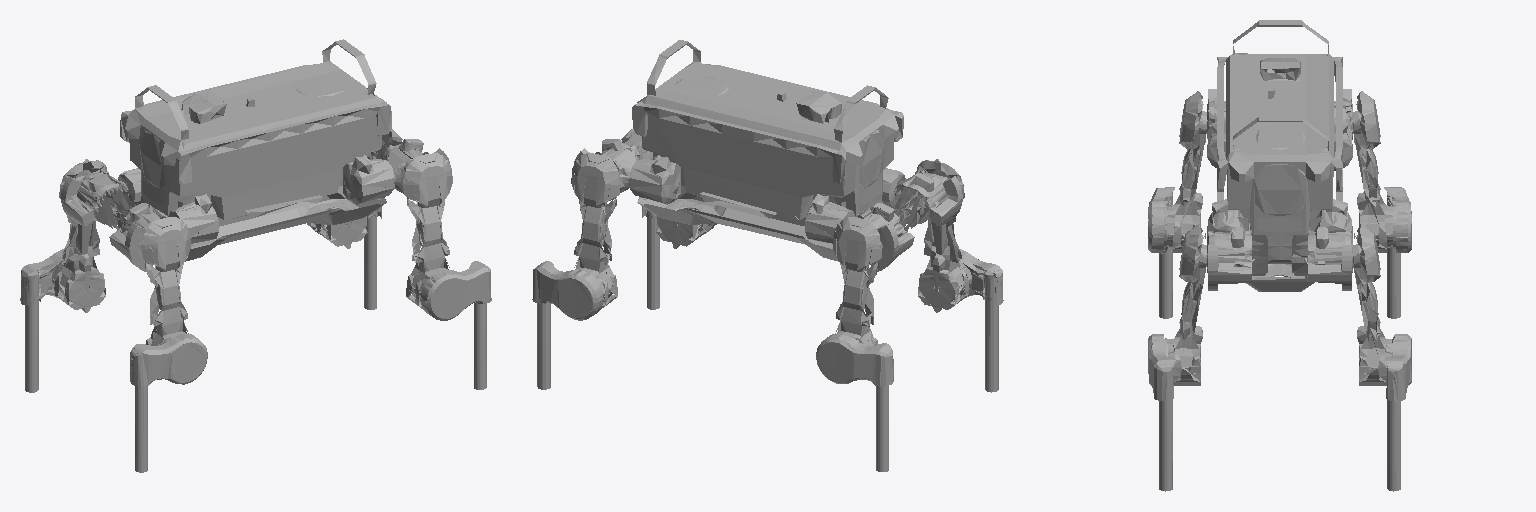
URDF robot description (anymal):
<?xml version="1.0" ?>
<robot name="anymal" xmlns:xacro="http://www.ros.org/wiki/xacro">

    <!--
      Material colors
    -->

    <!-- Basic colors -->
    <material name="black">
        <color rgba="0.0 0.0 0.0 1.0"/>
    </material>
    <material name="blue">
        <color rgba="0.0 0.0 0.8 1.0"/>
    </material>
    <material name="green">
        <color rgba="0.0 0.8 0.0 1.0"/>
    </material>
    <material name="grey">
        <color rgba="0.2 0.2 0.2 1.0"/>
    </material>
    <material name="light_grey">
        <color rgba="0.4 0.4 0.4 1.0"/>
    </material>
    <material name="red">
        <color rgba="0.8 0.0 0.0 1.0"/>
    </material>
    <material name="white">
        <color rgba="1.0 1.0 1.0 1.0"/>
    </material>

    <!-- Material for the visual primitives -->
    <material name="anymal_material">
        <color rgba="0.7 0.7 0.7 1.0"/>
    </material>

    <!--
      Base
    -->

    <!-- Base link -->
    <link name="base">
        <visual>
            <origin rpy="0 0 0" xyz="0 0 0"/>
            <geometry>
                <mesh filename="../meshes/anymal_base.dae" scale="0.001 0.001 0.001"/>
            </geometry>
            <material name="anymal_material"/>
        </visual>
        <!-- Main Body -->
        <collision>
            <origin rpy="0 0 0" xyz="0 0 0.08"/>
            <geometry>
                <box size="0.531 0.27 0.24"/>
            </geometry>
        </collision>
    </link>
    <!-- Fixed joint to add dummy inertia link -->
    <joint name="ignore_base_to_base_inertia" type="fixed">
        <parent link="base"/>
        <child link="base_inertia"/>
        <origin rpy="0 0 0" xyz="0 0 0"/>
    </joint>
    <!-- Dummy inertia link, because KDL cannot have inertia on the base link -->
    <link name="base_inertia">
        <inertial>
            <origin rpy="0 0 0" xyz="-0.001960558279 -0.001413217745 0.050207125344"/>
            <mass value="16.793507758"/>
            <inertia ixx="0.217391101503" ixy="-0.00132873239126" ixz="-0.00228200226173" iyy="0.639432546734" iyz="-0.00138078263145" izz="0.62414077654"/>
        </inertial>
    </link>

    <!--
      Left-Fore leg
    -->

    <!-- high link -->
    <link name="LF_HIP">
        <visual>
            <origin rpy="0 0 0.0" xyz="0 0 0"/>
            <geometry>
                <mesh filename="../meshes/anymal_hip_l.dae" scale="0.001 0.001 0.001"/>
            </geometry>
            <material name="anymal_material"/>
        </visual>
        <inertial>
            <origin rpy="0 0 0" xyz="0.064516258147 -0.003787101702 -0.000152184388"/>
            <mass value="1.42462064"/>
            <inertia ixx="0.00243023349564" ixy="-1.53023971e-05" ixz="-2.1819095354e-05" iyy="0.00230257239103" iyz="2.6473021273e-05" izz="0.0019806759227"/>
        </inertial>
    </link>
    <!-- Hip joint -->
    <joint name="LF_HAA" type="revolute">
        <parent link="base"/>
        <child link="LF_HIP"/>
        <origin xyz="0.277 0.116 0.0"/>
        <axis xyz="1 0 0"/>
        <limit effort="80" lower="-6.28" upper="6.28" velocity="15"/>
        <dynamics damping="0.0" friction="0.0"/>
    </joint>

    <!-- Thigh link -->
    <link name="LF_THIGH">
        <visual>
            <origin rpy="0 0 0.0" xyz="0 0 0"/>
            <geometry>
                <mesh filename="../meshes/anymal_thigh_l.dae" scale="0.001 0.001 0.001"/>
            </geometry>
            <material name="anymal_material"/>
        </visual>
        <collision>
            <!-- KFE actuator -->
            <origin rpy="1.57079632679 0 0" xyz="0.0 0.07205 -0.25"/>
            <geometry>
                <cylinder length="0.11" radius="0.06"/>
            </geometry>
        </collision>
        <inertial>
            <origin rpy="0 0 0" xyz="-0.003897968082 0.054226618537 -0.214583373795"/>
            <mass value="1.634976467"/>
            <inertia ixx="0.0120367944369" ixy="6.762065206e-05" ixz="0.000287806340448" iyy="0.0120643637939" iyz="-0.00140610131218" izz="0.00249422574881"/>
        </inertial>
    </link>
    <!-- Thigh joint -->
    <joint name="LF_HFE" type="revolute">
        <parent link="LF_HIP"/>
        <child link="LF_THIGH"/>
        <origin xyz="0.0635                    0.041                    0.0"/>
        <axis xyz="0 1 0"/>
        <limit effort="80" lower="-6.28" upper="6.28" velocity="15"/>
        <dynamics damping="0.0" friction="0.0"/>
    </joint>

    <!-- Shank link -->
    <link name="LF_SHANK">
        <visual>
            <origin rpy="0 0 0.0" xyz="0 0 0"/>
            <geometry>
                <mesh filename="../meshes/anymal_shank_l.dae" scale="0.001 0.001 0.001"/>
            </geometry>
            <material name="anymal_material"/>
        </visual>
        <inertial>
            <origin rpy="0 0 0" xyz="0.030816858139 -0.004617229294 0.000893125713"/>
            <mass value="0.207204302"/>
            <inertia ixx="0.0002104880248" ixy="-5.6750980345e-05" ixz="1.0127699391e-05" iyy="0.000676270210023" iyz="-8.22869024e-07" izz="0.000545032674924"/>
        </inertial>
    </link>
    <!-- Shank joint -->
    <joint name="LF_KFE" type="revolute">
        <parent link="LF_THIGH"/>
        <child link="LF_SHANK"/>
        <origin xyz="0.0 0.109 -0.25"/>
        <axis xyz="0 1 0"/>
        <limit effort="80" lower="-6.28" upper="6.28" velocity="15"/>
        <dynamics damping="0.0" friction="0.0"/>
    </joint>
    <!-- Shank to Adapter joint -->
    <joint name="ignore_LF_SHANK_TO_ADAPTER" type="fixed">
        <parent link="LF_SHANK"/>
        <child link="LF_ADAPTER"/>
        <origin rpy="0.0 0.0 0.0" xyz="0.1 -0.02 0.0"/>
    </joint>

    <!-- Adapter link -->
    <link name="LF_ADAPTER">
        <visual>
            <origin rpy="0 0 0.0" xyz="0 0 0.032"/>
            <geometry>
                      <mesh filename="../meshes/anymal_foot.dae" scale="0.001 0.001 0.001"/>
            </geometry>
            <material name="anymal_material"/>
        </visual>
        <collision>
            <!-- <origin rpy="0 0 0" xyz="0 0 -0.160625"/>
            <geometry>
                <cylinder length="0.22125" radius="0.015"/>
            </geometry -->
            <origin rpy="0 0 0.0" xyz="0 0 0.032"/>
            <geometry>
                      <mesh filename="../meshes/anymal_foot.dae" scale="0.001 0.001 0.001"/>
            </geometry>
        </collision>
        <inertial>
            <origin rpy="0 0 0" xyz="-8.66e-10 -1.472e-09 -0.244345749188"/>
            <mass value="0.140170767"/>
            <inertia ixx="0.00159938741862" ixy="-9.32e-13" ixz="1.039e-11" iyy="0.00159938741932" iyz="1.7563e-11" izz="5.4423177329e-05"/>
        </inertial>
    </link>

    <!--
      Right-Fore leg
    -->

    <!-- Hip link -->
    <link name="RF_HIP">
        <visual>
            <origin rpy="0 0 0.0" xyz="0 0 0"/>
            <geometry>
                <mesh filename="../meshes/anymal_hip_r.dae" scale="0.001 0.001 0.001"/>
            </geometry>
            <material name="anymal_material"/>
        </visual>
        <inertial>
            <origin rpy="0 0 0" xyz="0.064516258147 0.003787101702 -0.000152184388"/>
            <mass value="1.42462064"/>
            <inertia ixx="0.00243023349564" ixy="1.53023971e-05" ixz="-2.1819095354e-05" iyy="0.00230257239103" iyz="-2.6473021273e-05" izz="0.0019806759227"/>
        </inertial>
    </link>
    <!-- Hip joint -->
    <joint name="RF_HAA" type="revolute">
        <parent link="base"/>
        <child link="RF_HIP"/>
        <origin xyz="0.277 -0.116 0.0"/>
        <axis xyz="1 0 0"/>
        <limit effort="80" lower="-6.28" upper="6.28" velocity="15"/>
        <dynamics damping="0.0" friction="0.0"/>
    </joint>

    <!-- Thigh link -->
    <link name="RF_THIGH">
        <visual>
            <origin rpy="0 0 0.0" xyz="0 0 0"/>
            <geometry>
                <mesh filename="../meshes/anymal_thigh_r.dae" scale="0.001 0.001 0.001"/>
            </geometry>
            <material name="anymal_material"/>
        </visual>
        <collision>
            <!-- KFE actuator -->
            <origin rpy="1.57079632679 0 0" xyz="0.0 -0.07205 -0.25"/>
            <geometry>
                <cylinder length="0.11" radius="0.06"/>
            </geometry>
        </collision>
        <inertial>
            <origin rpy="0 0 0" xyz="-0.003897968082 -0.054226618537 -0.214583373795"/>
            <mass value="1.634976467"/>
            <inertia ixx="0.0120367944369" ixy="-6.762065206e-05" ixz="0.000287806340448" iyy="0.0120643637939" iyz="0.00140610131218" izz="0.00249422574881"/>
        </inertial>
    </link>
    <!-- Thigh joint -->
    <joint name="RF_HFE" type="revolute">
        <parent link="RF_HIP"/>
        <child link="RF_THIGH"/>
        <origin xyz="0.0635                    -0.041                    0.0"/>
        <axis xyz="0 1 0"/>
        <limit effort="80" lower="-6.28" upper="6.28" velocity="15"/>
        <dynamics damping="0.0" friction="0.0"/>
    </joint>

    <!-- Shank link -->
    <link name="RF_SHANK">
        <visual>
            <origin rpy="0 0 0.0" xyz="0 0 0"/>
            <geometry>
                <mesh filename="../meshes/anymal_shank_r.dae" scale="0.001 0.001 0.001"/>
            </geometry>
            <material name="anymal_material"/>
        </visual>
        <inertial>
            <origin rpy="0 0 0" xyz="0.030816858139 0.004617229294 0.000893125713"/>
            <mass value="0.207204302"/>
            <inertia ixx="0.0002104880248" ixy="5.6750980345e-05" ixz="1.0127699391e-05" iyy="0.000676270210023" iyz="8.22869024e-07" izz="0.000545032674924"/>
        </inertial>
    </link>
    <!-- Shank joint -->
    <joint name="RF_KFE" type="revolute">
        <parent link="RF_THIGH"/>
        <child link="RF_SHANK"/>
        <origin xyz="0.0 -0.109 -0.25"/>
        <axis xyz="0 1 0"/>
        <limit effort="80" lower="-6.28" upper="6.28" velocity="15"/>
        <dynamics damping="0.0" friction="0.0"/>
    </joint>
    <!-- Shank to Adapter joint -->
    <joint name="ignore_RF_SHANK_TO_ADAPTER" type="fixed">
        <parent link="RF_SHANK"/>
        <child link="RF_ADAPTER"/>
        <origin rpy="-0.0 0.0 -0.0" xyz="0.1 0.02 0.0"/>
    </joint>

    <!-- Adapter link -->
    <link name="RF_ADAPTER">
      <visual>
          <origin rpy="0 0 0.0" xyz="0 0 0.032"/>
          <geometry>
                    <mesh filename="../meshes/anymal_foot.dae" scale="0.001 0.001 0.001"/>
          </geometry>
          <material name="anymal_material"/>
      </visual>
      <collision>
          <!-- <origin rpy="0 0 0" xyz="0 0 -0.160625"/>
          <geometry>
              <cylinder length="0.22125" radius="0.015"/>
          </geometry -->
          <origin rpy="0 0 0.0" xyz="0 0 0.032"/>
          <geometry>
                    <mesh filename="../meshes/anymal_foot.dae" scale="0.001 0.001 0.001"/>
          </geometry>
      </collision>
      <inertial>
          <origin rpy="0 0 0" xyz="-8.66e-10 -1.472e-09 -0.244345749188"/>
          <mass value="0.140170767"/>
          <inertia ixx="0.00159938741862" ixy="-9.32e-13" ixz="1.039e-11" iyy="0.00159938741932" iyz="1.7563e-11" izz="5.4423177329e-05"/>
      </inertial>
  </link>

  <!--
      Left-Hind leg
    -->

    <!-- Hip link -->
    <link name="LH_HIP">
        <visual>
            <origin rpy="0 0 -3.14159265359" xyz="0 0 0"/>
            <geometry>
                <mesh filename="../meshes/anymal_hip_r.dae" scale="0.001 0.001 0.001"/>
            </geometry>
            <material name="anymal_material"/>
        </visual>
        <inertial>
            <origin rpy="0 0 0" xyz="-0.064516258147 -0.003787101702 -0.000152184388"/>
            <mass value="1.42462064"/>
            <inertia ixx="0.00243023349564" ixy="1.53023971e-05" ixz="2.1819095354e-05" iyy="0.00230257239103" iyz="2.6473021273e-05" izz="0.0019806759227"/>
        </inertial>
    </link>
    <!-- Hip joint -->
    <joint name="LH_HAA" type="revolute">
        <parent link="base"/>
        <child link="LH_HIP"/>
        <origin xyz="-0.277 0.116 0.0"/>
        <axis xyz="1 0 0"/>
        <limit effort="80" lower="-6.28" upper="6.28" velocity="15"/>
        <dynamics damping="0.0" friction="0.0"/>
    </joint>

    <!-- Thigh link -->
    <link name="LH_THIGH">
        <visual>
            <origin rpy="0 0 -3.14159265359" xyz="0 0 0"/>
            <geometry>
                <mesh filename="../meshes/anymal_thigh_r.dae" scale="0.001 0.001 0.001"/>
            </geometry>
            <material name="anymal_material"/>
        </visual>
        <collision>
            <!-- KFE actuator -->
            <origin rpy="1.57079632679 0 0" xyz="0.0 0.07205 -0.25"/>
            <geometry>
                <cylinder length="0.11" radius="0.06"/>
            </geometry>
        </collision>
        <inertial>
            <origin rpy="0 0 0" xyz="0.003897968082 0.054226618537 -0.214583373795"/>
            <mass value="1.634976467"/>
            <inertia ixx="0.0120367944369" ixy="-6.762065206e-05" ixz="-0.000287806340448" iyy="0.0120643637939" iyz="-0.00140610131218" izz="0.00249422574881"/>
        </inertial>
    </link>
    <!-- Thigh joint -->
    <joint name="LH_HFE" type="revolute">
        <parent link="LH_HIP"/>
        <child link="LH_THIGH"/>
        <origin xyz="-0.0635                    0.041                    0.0"/>
        <axis xyz="0 1 0"/>
        <limit effort="80" lower="-6.28" upper="6.28" velocity="15"/>
        <dynamics damping="0.0" friction="0.0"/>
    </joint>

    <!-- Shank link -->
    <link name="LH_SHANK">
        <visual>
            <origin rpy="0 0 -3.14159265359" xyz="0 0 0"/>
            <geometry>
                <mesh filename="../meshes/anymal_shank_r.dae" scale="0.001 0.001 0.001"/>
            </geometry>
            <material name="anymal_material"/>
        </visual>
        <inertial>
            <origin rpy="0 0 0" xyz="-0.030816858139 -0.004617229294 0.000893125713"/>
            <mass value="0.207204302"/>
            <inertia ixx="0.0002104880248" ixy="5.6750980345e-05" ixz="-1.0127699391e-05" iyy="0.000676270210023" iyz="-8.22869024e-07" izz="0.000545032674924"/>
        </inertial>
    </link>
    <!-- Shank joint -->
    <joint name="LH_KFE" type="revolute">
        <parent link="LH_THIGH"/>
        <child link="LH_SHANK"/>
        <origin xyz="-0.0 0.109 -0.25"/>
        <axis xyz="0 1 0"/>
        <limit effort="80" lower="-6.28" upper="6.28" velocity="15"/>
        <dynamics damping="0.0" friction="0.0"/>
    </joint>
    <!-- Shank to Adapter joint -->
    <joint name="ignore_LH_SHANK_TO_ADAPTER" type="fixed">
        <parent link="LH_SHANK"/>
        <child link="LH_ADAPTER"/>
        <origin rpy="0.0 -0.0 -0.0" xyz="-0.1 -0.02 0.0"/>
    </joint>

    <!-- Adapter link -->
    <link name="LH_ADAPTER">
      <visual>
          <origin rpy="0 0 0.0" xyz="0 0 0.032"/>
          <geometry>
                    <mesh filename="../meshes/anymal_foot.dae" scale="0.001 0.001 0.001"/>
          </geometry>
          <material name="anymal_material"/>
      </visual>
      <collision>
          <!-- <origin rpy="0 0 0" xyz="0 0 -0.160625"/>
          <geometry>
              <cylinder length="0.22125" radius="0.015"/>
          </geometry -->
          <origin rpy="0 0 0.0" xyz="0 0 0.032"/>
          <geometry>
                    <mesh filename="../meshes/anymal_foot.dae" scale="0.001 0.001 0.001"/>
          </geometry>
      </collision>
      <inertial>
          <origin rpy="0 0 0" xyz="-8.66e-10 -1.472e-09 -0.244345749188"/>
          <mass value="0.140170767"/>
          <inertia ixx="0.00159938741862" ixy="-9.32e-13" ixz="1.039e-11" iyy="0.00159938741932" iyz="1.7563e-11" izz="5.4423177329e-05"/>
      </inertial>
  </link>

  <!--
      Right-Hind leg
    -->

    <!-- Hip link -->
    <link name="RH_HIP">
        <visual>
            <origin rpy="0 0 -3.14159265359" xyz="0 0 0"/>
            <geometry>
                <mesh filename="../meshes/anymal_hip_l.dae" scale="0.001 0.001 0.001"/>
            </geometry>
            <material name="anymal_material"/>
        </visual>
        <inertial>
            <origin rpy="0 0 0" xyz="-0.064516258147 0.003787101702 -0.000152184388"/>
            <mass value="1.42462064"/>
            <inertia ixx="0.00243023349564" ixy="-1.53023971e-05" ixz="2.1819095354e-05" iyy="0.00230257239103" iyz="-2.6473021273e-05" izz="0.0019806759227"/>
        </inertial>
    </link>
    <!-- Hip joint -->
    <joint name="RH_HAA" type="revolute">
        <parent link="base"/>
        <child link="RH_HIP"/>
        <origin xyz="-0.277 -0.116 0.0"/>
        <axis xyz="1 0 0"/>
        <limit effort="80" lower="-6.28" upper="6.28" velocity="15"/>
        <dynamics damping="0.0" friction="0.0"/>
    </joint>

    <!-- Thigh link -->
    <link name="RH_THIGH">
        <visual>
            <origin rpy="0 0 -3.14159265359" xyz="0 0 0"/>
            <geometry>
                <mesh filename="../meshes/anymal_thigh_l.dae" scale="0.001 0.001 0.001"/>
            </geometry>
            <material name="anymal_material"/>
        </visual>
        <collision>
            <!-- KFE actuator -->
            <origin rpy="1.57079632679 0 0" xyz="0.0 -0.07205 -0.25"/>
            <geometry>
                <cylinder length="0.11" radius="0.06"/>
            </geometry>
        </collision>
        <inertial>
            <origin rpy="0 0 0" xyz="0.003897968082 -0.054226618537 -0.214583373795"/>
            <mass value="1.634976467"/>
            <inertia ixx="0.0120367944369" ixy="6.762065206e-05" ixz="-0.000287806340448" iyy="0.0120643637939" iyz="0.00140610131218" izz="0.00249422574881"/>
        </inertial>
    </link>
    <!-- Thigh joint -->
    <joint name="RH_HFE" type="revolute">
        <parent link="RH_HIP"/>
        <child link="RH_THIGH"/>
        <origin xyz="-0.0635                    -0.041                    0.0"/>
        <axis xyz="0 1 0"/>
        <limit effort="80" lower="-6.28" upper="6.28" velocity="15"/>
        <dynamics damping="0.0" friction="0.0"/>
    </joint>

    <!-- Shank link -->
    <link name="RH_SHANK">
        <visual>
            <origin rpy="0 0 -3.14159265359" xyz="0 0 0"/>
            <geometry>
                <mesh filename="../meshes/anymal_shank_l.dae" scale="0.001 0.001 0.001"/>
            </geometry>
            <material name="anymal_material"/>
        </visual>
        <inertial>
            <origin rpy="0 0 0" xyz="-0.030816858139 0.004617229294 0.000893125713"/>
            <mass value="0.207204302"/>
            <inertia ixx="0.0002104880248" ixy="-5.6750980345e-05" ixz="-1.0127699391e-05" iyy="0.000676270210023" iyz="8.22869024e-07" izz="0.000545032674924"/>
        </inertial>
    </link>
    <!-- Shank joint -->
    <joint name="RH_KFE" type="revolute">
        <parent link="RH_THIGH"/>
        <child link="RH_SHANK"/>
        <origin xyz="-0.0 -0.109 -0.25"/>
        <axis xyz="0 1 0"/>
        <limit effort="80" lower="-6.28" upper="6.28" velocity="15"/>
        <dynamics damping="0.0" friction="0.0"/>
    </joint>
    <!-- Shank to Adapter joint -->
    <joint name="ignore_RH_SHANK_TO_ADAPTER" type="fixed">
        <parent link="RH_SHANK"/>
        <child link="RH_ADAPTER"/>
        <origin rpy="-0.0 -0.0 0.0" xyz="-0.1 0.02 0.0"/>
    </joint>

    <!-- Adapter link -->
    <link name="RH_ADAPTER">
      <visual>
          <origin rpy="0 0 0.0" xyz="0 0 0.032"/>
          <geometry>
                    <mesh filename="../meshes/anymal_foot.dae" scale="0.001 0.001 0.001"/>
          </geometry>
          <material name="anymal_material"/>
      </visual>
      <collision>
          <!-- <origin rpy="0 0 0" xyz="0 0 -0.160625"/>
          <geometry>
              <cylinder length="0.22125" radius="0.015"/>
          </geometry -->
          <origin rpy="0 0 0.0" xyz="0 0 0.032"/>
          <geometry>
                    <mesh filename="../meshes/anymal_foot.dae" scale="0.001 0.001 0.001"/>
          </geometry>
      </collision>
      <inertial>
          <origin rpy="0 0 0" xyz="-8.66e-10 -1.472e-09 -0.244345749188"/>
          <mass value="0.140170767"/>
          <inertia ixx="0.00159938741862" ixy="-9.32e-13" ixz="1.039e-11" iyy="0.00159938741932" iyz="1.7563e-11" izz="5.4423177329e-05"/>
      </inertial>
  </link>

</robot>

--- Render facts (derived) ---
The picture shows the robot from 3 angles, left to right: view 1: azimuth 30°, elevation 25°; view 2: azimuth 150°, elevation 25°; view 3: azimuth 270°, elevation 25°; orthographic projection.
Model anymal with 18 links and 17 joints (12 revolute, 5 fixed), rooted at base, posed all joints at 0.
Links seen in each view (by area): view 1: base, RF_THIGH, RH_THIGH, LH_THIGH, RH_SHANK, LH_HIP, RF_SHANK, RH_HIP, LH_ADAPTER, RF_HIP, LH_SHANK, LF_ADAPTER (+3 smaller); view 2: base, LF_THIGH, LH_THIGH, RH_THIGH, LH_SHANK, RH_HIP, LF_SHANK, LH_HIP, RH_ADAPTER, LF_ADAPTER, LF_HIP, RF_ADAPTER (+3 smaller); view 3: base, LF_THIGH, RF_THIGH, LH_THIGH, RH_THIGH, RF_HIP, LF_HIP, LF_SHANK, RF_SHANK, LF_ADAPTER, RF_ADAPTER, RH_SHANK (+3 smaller).
Boxes of the visible links, x1=… form: base: x1=118, y1=39, x2=394, y2=261; RF_THIGH: x1=403, y1=152, x2=452, y2=308; RH_THIGH: x1=141, y1=216, x2=190, y2=345; LH_THIGH: x1=52, y1=159, x2=108, y2=312; RH_SHANK: x1=130, y1=334, x2=207, y2=386; LH_HIP: x1=61, y1=170, x2=130, y2=228; RF_SHANK: x1=420, y1=261, x2=491, y2=320; RH_HIP: x1=109, y1=203, x2=167, y2=271; LH_ADAPTER: x1=25, y1=271, x2=38, y2=392; RF_HIP: x1=381, y1=139, x2=450, y2=193; LH_SHANK: x1=20, y1=249, x2=64, y2=305; LF_ADAPTER: x1=364, y1=210, x2=376, y2=309; base: x1=629, y1=40, x2=905, y2=261; LF_THIGH: x1=571, y1=152, x2=620, y2=308; LH_THIGH: x1=833, y1=215, x2=882, y2=345; RH_THIGH: x1=915, y1=159, x2=971, y2=312; LH_SHANK: x1=816, y1=333, x2=893, y2=386; RH_HIP: x1=893, y1=170, x2=962, y2=228; LF_SHANK: x1=532, y1=261, x2=603, y2=320; LH_HIP: x1=855, y1=203, x2=914, y2=271; RH_ADAPTER: x1=985, y1=271, x2=998, y2=392; LF_ADAPTER: x1=537, y1=302, x2=550, y2=389; LF_HIP: x1=573, y1=139, x2=642, y2=192; RF_ADAPTER: x1=647, y1=210, x2=659, y2=309; base: x1=1204, y1=20, x2=1355, y2=291; LF_THIGH: x1=1353, y1=224, x2=1392, y2=385; RF_THIGH: x1=1167, y1=224, x2=1206, y2=385; LH_THIGH: x1=1353, y1=91, x2=1392, y2=252; RH_THIGH: x1=1167, y1=91, x2=1206, y2=252; RF_HIP: x1=1207, y1=227, x2=1267, y2=290; LF_HIP: x1=1292, y1=227, x2=1352, y2=290; LF_SHANK: x1=1384, y1=334, x2=1411, y2=401; RF_SHANK: x1=1148, y1=334, x2=1175, y2=401; LF_ADAPTER: x1=1387, y1=367, x2=1400, y2=491; RF_ADAPTER: x1=1159, y1=366, x2=1172, y2=491; RH_SHANK: x1=1148, y1=187, x2=1174, y2=253.
Bounding box of the posed robot: 0.9327 × 0.5679 × 0.789 m (x, y, z).
17 mesh visuals loaded from 8 distinct referenced files (8 Collada DAE).
